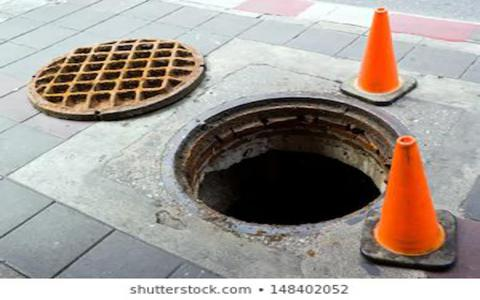open manhole: (181, 90, 385, 239)
